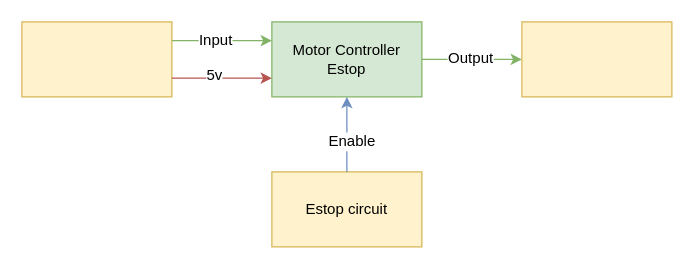
The diagram is 694 pixels wide and 269 high, and some of its shapes have lost their labels. The shapes that lost their labels are listed below. From the top down, each one's centre as x and y in pixels, then its label:
At [96,59]: "Arduino".
At [596,59]: "Motor controller".
